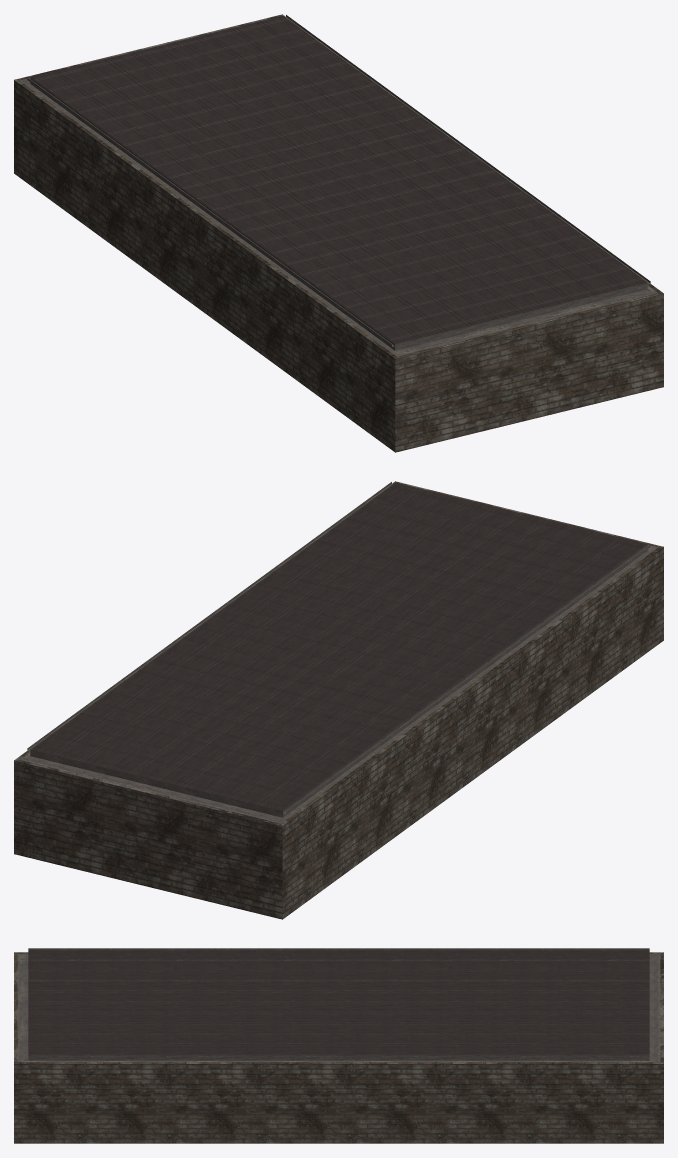
The model's file is EV_Map01.obj.
3 renders of one model, top to bottom at view 1: azimuth 30°, elevation 25°; view 2: azimuth 150°, elevation 25°; view 3: azimuth 270°, elevation 25°, orthographic. The views are drawn at different scales.
Visible parts, largest first — view 1: Map01 EV_Ceil Ceil, Map01 Map01_EV_Wall03, Map01 Map01_EV_Wall04, Map01 Ceil EV_Ceil09, Map01 Ceil EV_Ceil10, Map01 Ceil EV_Ceil13, Map01 Ceil EV_Ceil06, Map01 Ceil EV_Ceil12, Map01 Ceil EV_Ceil05, Map01 Ceil EV_Ceil07, Map01 Ceil EV_Ceil14, Map01 Ceil EV_Ceil11 (+2 smaller); view 2: Map01 EV_Ceil Ceil, Map01 Map01_EV_Wall03, Map01 Map01_EV_Wall04, Map01 Ceil EV_Ceil09, Map01 Ceil EV_Ceil10, Map01 Ceil EV_Ceil39, Map01 Ceil EV_Ceil05, Map01 Ceil EV_Ceil08, Map01 Ceil EV_Ceil12, Map01 Ceil EV_Ceil11, Map01 Ceil EV_Ceil13, Map01 Ceil EV_Ceil07 (+2 smaller); view 3: Map01 EV_Ceil Ceil, Map01 Map01_EV_Wall03, Map01 Map01_EV_Wall04, Map01 Ceil EV_Ceil09, Map01 Ceil EV_Ceil10, Map01 Ceil EV_Ceil05, Map01 Ceil EV_Ceil06, Map01 Ceil EV_Ceil07, Map01 Ceil EV_Ceil08, Map01 Ceil EV_Ceil11, Map01 Ceil EV_Ceil12, Map01 Ceil EV_Ceil13 (+2 smaller).
Part boxes in pixels (x1,y1,x2,y2): Map01 EV_Ceil Ceil: [31, 16, 646, 343]; Map01 Map01_EV_Wall03: [14, 14, 663, 452]; Map01 Map01_EV_Wall04: [20, 77, 657, 356]; Map01 Ceil EV_Ceil09: [283, 15, 650, 284]; Map01 Ceil EV_Ceil10: [27, 77, 395, 346]; Map01 Ceil EV_Ceil13: [104, 58, 471, 325]; Map01 Ceil EV_Ceil06: [205, 33, 573, 300]; Map01 Ceil EV_Ceil12: [78, 64, 446, 331]; Map01 Ceil EV_Ceil05: [180, 40, 547, 307]; Map01 Ceil EV_Ceil07: [231, 27, 598, 294]; Map01 Ceil EV_Ceil14: [130, 52, 497, 319]; Map01 Ceil EV_Ceil11: [53, 71, 420, 338]; Map01 EV_Ceil Ceil: [31, 483, 646, 810]; Map01 Map01_EV_Wall03: [14, 481, 663, 919]; Map01 Map01_EV_Wall04: [20, 544, 657, 823]; Map01 Ceil EV_Ceil09: [27, 482, 394, 751]; Map01 Ceil EV_Ceil10: [282, 544, 650, 813]; Map01 Ceil EV_Ceil39: [154, 513, 522, 780]; Map01 Ceil EV_Ceil05: [130, 507, 497, 774]; Map01 Ceil EV_Ceil08: [53, 488, 420, 755]; Map01 Ceil EV_Ceil12: [231, 531, 599, 798]; Map01 Ceil EV_Ceil11: [257, 538, 624, 805]; Map01 Ceil EV_Ceil13: [206, 525, 573, 792]; Map01 Ceil EV_Ceil07: [79, 494, 446, 761]; Map01 EV_Ceil Ceil: [28, 950, 649, 1054]; Map01 Map01_EV_Wall03: [14, 952, 663, 1143]; Map01 Map01_EV_Wall04: [17, 953, 660, 1062]; Map01 Ceil EV_Ceil09: [28, 1054, 649, 1057]; Map01 Ceil EV_Ceil10: [28, 948, 649, 950]; Map01 Ceil EV_Ceil05: [28, 1011, 649, 1013]; Map01 Ceil EV_Ceil06: [28, 1022, 649, 1024]; Map01 Ceil EV_Ceil07: [28, 1033, 649, 1034]; Map01 Ceil EV_Ceil08: [28, 1043, 649, 1045]; Map01 Ceil EV_Ceil11: [28, 959, 649, 960]; Map01 Ceil EV_Ceil12: [28, 969, 649, 971]; Map01 Ceil EV_Ceil13: [28, 980, 649, 981].
Size of the model in its own units: 1051 by 377 by 2584.
Materials: 13 (12 with a texture image).
